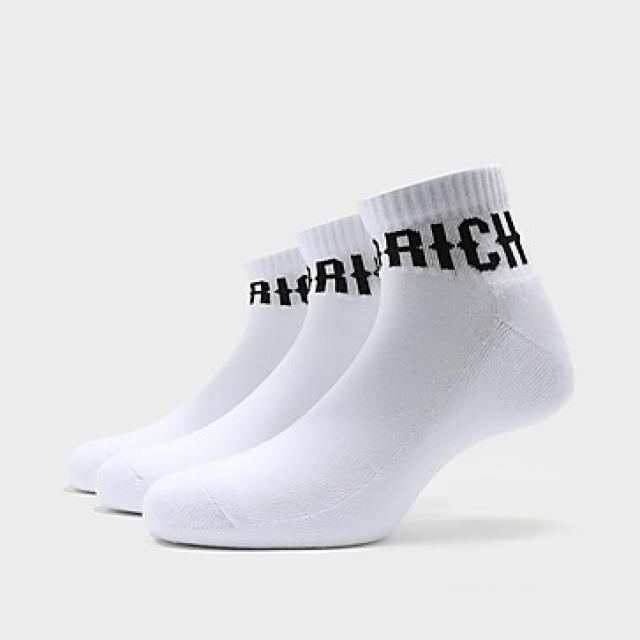sock: (141, 162, 575, 548)
